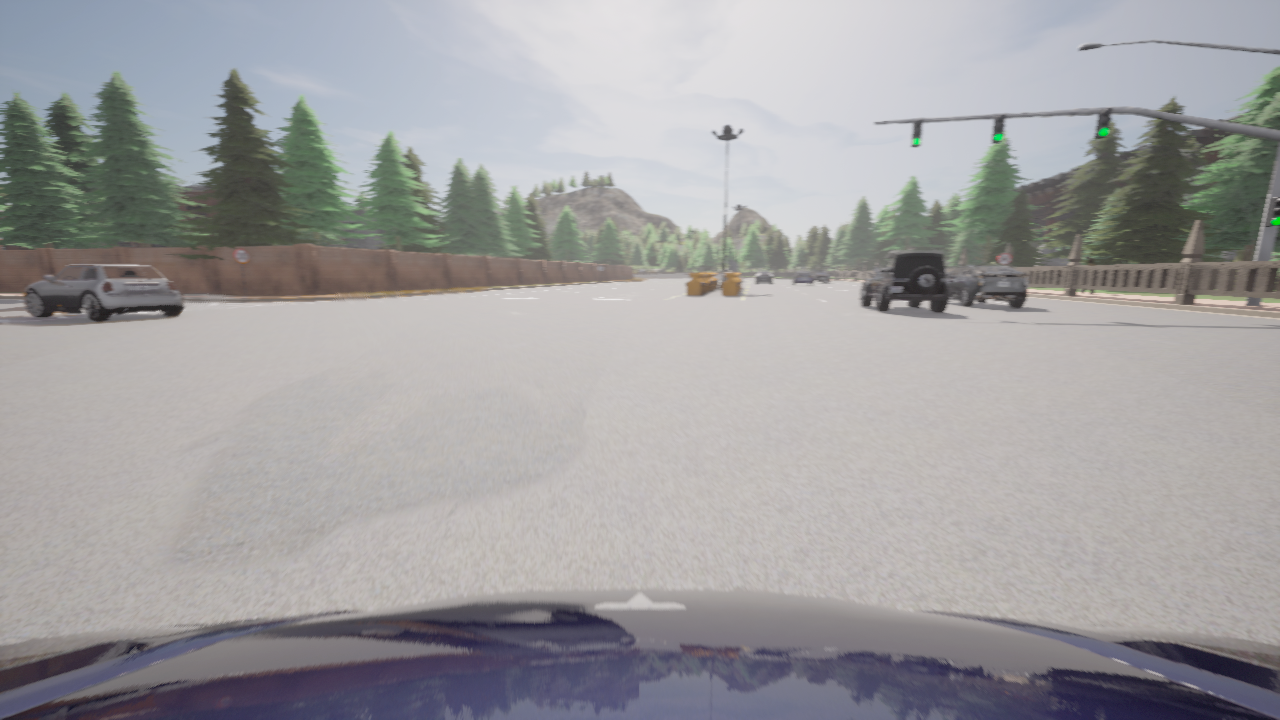cyclist: (0, 588, 1279, 719), (25, 264, 183, 320), (861, 251, 950, 312), (946, 265, 1028, 307), (791, 271, 814, 285), (755, 271, 772, 283), (812, 271, 829, 282)
pedestrian: (1080, 259, 1095, 293)
